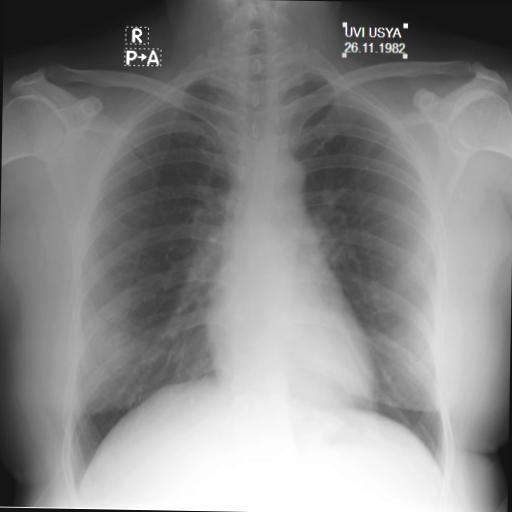normal: (55, 40, 467, 500)
